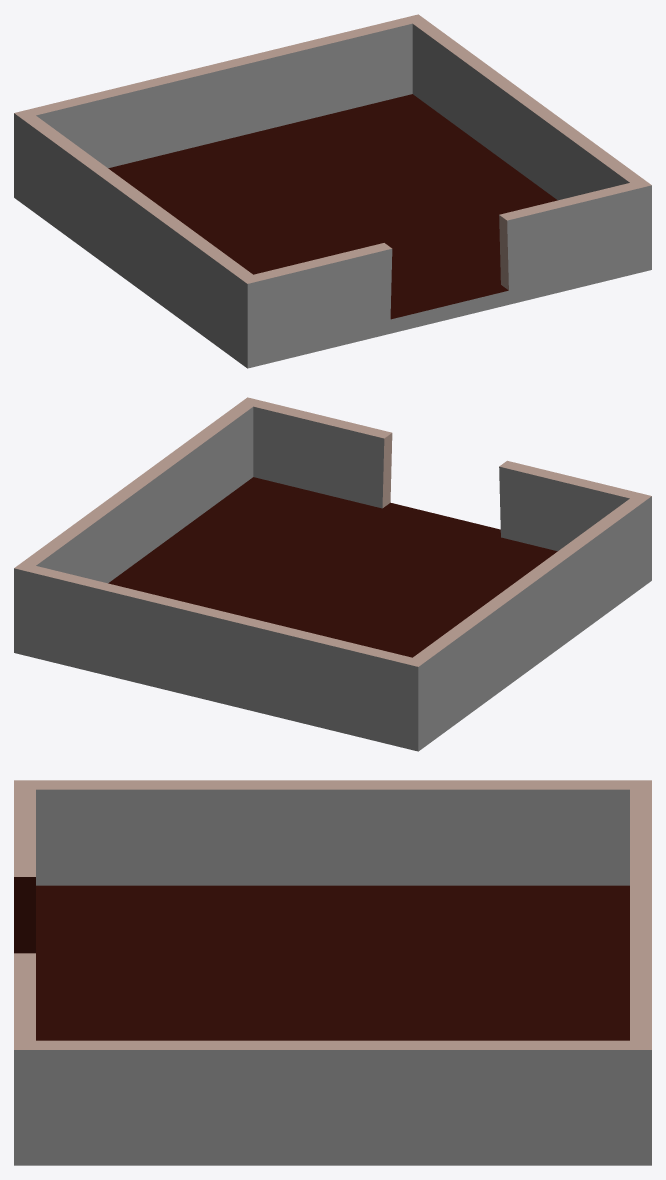
Rendered from Prototype_Room.FBX.
3 views of the same model, one above another, from view 1: azimuth 30°, elevation 25°; view 2: azimuth 150°, elevation 25°; view 3: azimuth 270°, elevation 25° (orthographic). The views are drawn at different scales.
Parts seen in each view (by area): view 1: Box001; view 2: Box001; view 3: Box001.
Boxes of the visible parts, <box> form: Box001: <box>14,14,651,368</box>; Box001: <box>14,397,651,751</box>; Box001: <box>14,780,651,1165</box>.
Size of the model in its own units: 100 by 20 by 100.
